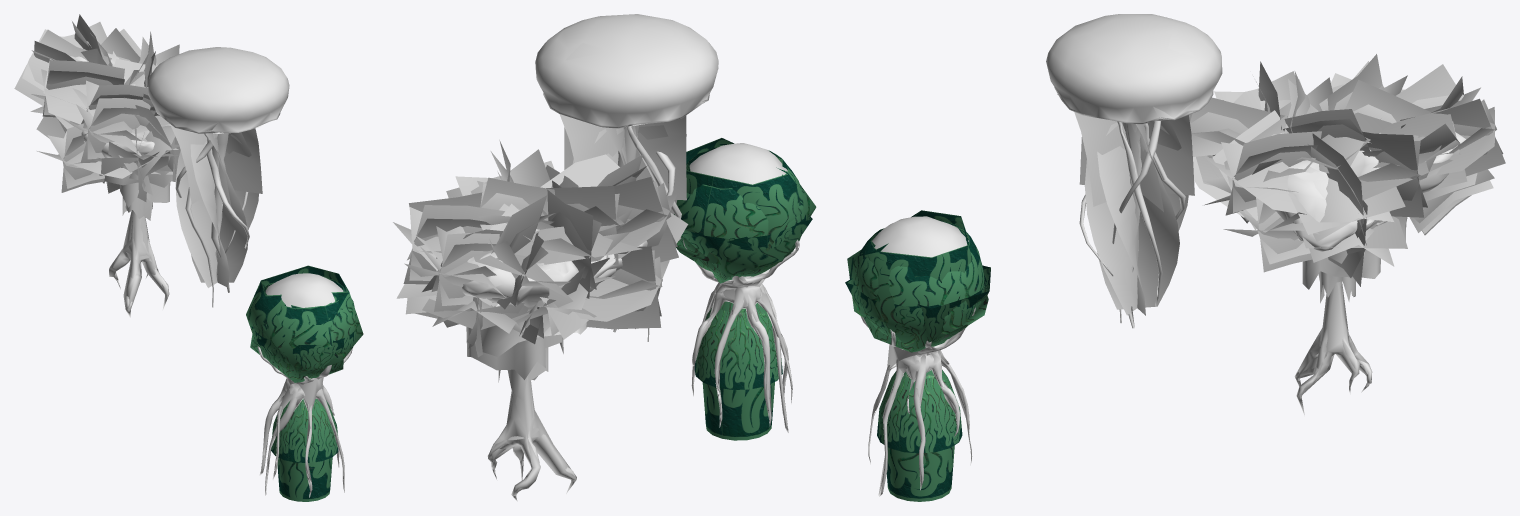
The model's file is ATrees00.fbx.
The picture shows the model from 3 angles, left to right: view 1: azimuth 30°, elevation 25°; view 2: azimuth 150°, elevation 25°; view 3: azimuth 270°, elevation 25°; orthographic projection. The views are drawn at different scales.
Visible parts, largest first — view 1: Box003, GeoSphere001, Cylinder012, Cylinder009, Plane003, Plane004, Cylinder008, Sphere001, GeoSphere008, Plane001, Cylinder007, Plane002 (+10 smaller); view 2: Box003, GeoSphere001, Cylinder009, Cylinder012, Plane004, Sphere001, Cylinder007, Cylinder008, GeoSphere008, Box002, GeoSphere004, Box001 (+4 smaller); view 3: Box003, GeoSphere001, Cylinder009, Cylinder012, Plane004, Sphere001, Plane001, Plane002, Plane003, Cylinder008, GeoSphere008, Box002 (+9 smaller).
Boxes of the visible parts, bbox=[...] form: Box003: bbox=[14, 14, 179, 201]; GeoSphere001: bbox=[148, 47, 289, 133]; Cylinder012: bbox=[246, 265, 363, 382]; Cylinder009: bbox=[271, 399, 338, 501]; Plane003: bbox=[175, 132, 258, 287]; Plane004: bbox=[170, 124, 262, 206]; Cylinder008: bbox=[257, 346, 351, 497]; Sphere001: bbox=[253, 275, 355, 370]; GeoSphere008: bbox=[265, 273, 343, 307]; Plane001: bbox=[191, 133, 247, 282]; Cylinder007: bbox=[102, 170, 172, 220]; Plane002: bbox=[190, 131, 229, 287]; Box003: bbox=[393, 140, 688, 357]; GeoSphere001: bbox=[535, 14, 718, 128]; Cylinder009: bbox=[694, 301, 782, 440]; Cylinder012: bbox=[676, 138, 816, 283]; Plane004: bbox=[559, 114, 686, 200]; Sphere001: bbox=[674, 147, 804, 253]; Cylinder007: bbox=[466, 313, 587, 400]; Cylinder008: bbox=[683, 239, 799, 432]; GeoSphere008: bbox=[689, 143, 787, 184]; Box002: bbox=[487, 304, 576, 496]; GeoSphere004: bbox=[435, 220, 578, 311]; Box001: bbox=[488, 387, 575, 501]; Box003: bbox=[1190, 54, 1505, 286]; GeoSphere001: bbox=[1046, 14, 1222, 124]; Cylinder009: bbox=[877, 369, 962, 501]; Cylinder012: bbox=[845, 210, 990, 352]; Plane004: bbox=[1074, 112, 1194, 211]; Sphere001: bbox=[854, 221, 984, 340]; Plane001: bbox=[1084, 120, 1188, 315]; Plane002: bbox=[1097, 132, 1179, 309]; Plane003: bbox=[1097, 122, 1145, 315]; Cylinder008: bbox=[860, 307, 975, 496]; GeoSphere008: bbox=[872, 216, 968, 257]; Box002: bbox=[1294, 221, 1387, 415].
Bounding box in the file's own units: 222 × 414 × 542.
